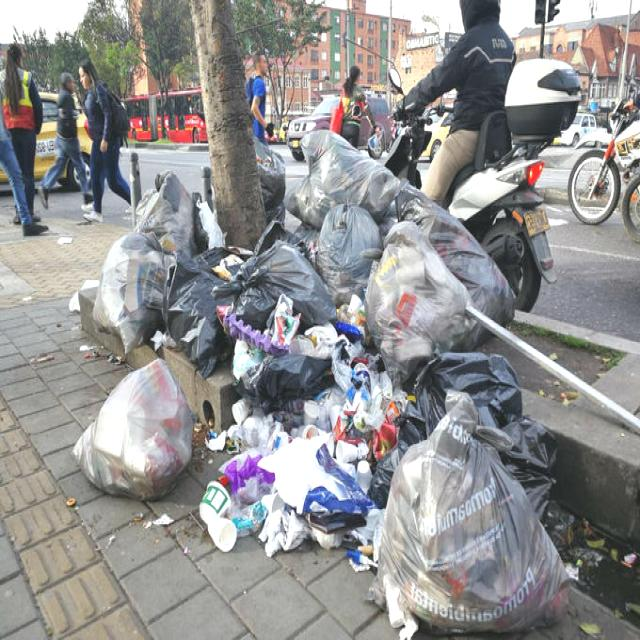garbage: (72, 138, 562, 622)
